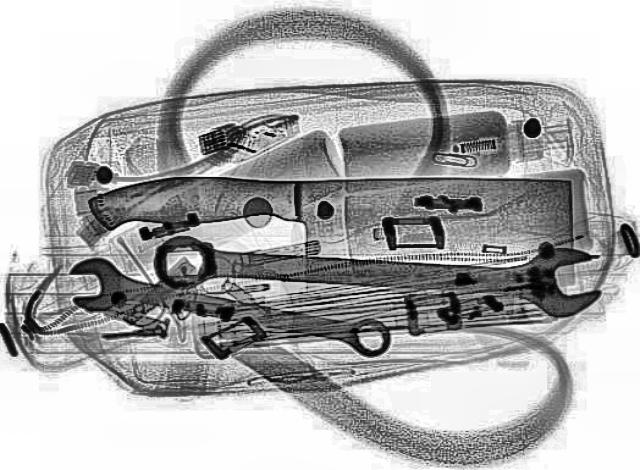Knife: (89, 176, 576, 290)
Wrench: (146, 221, 606, 319), (54, 251, 400, 364)
